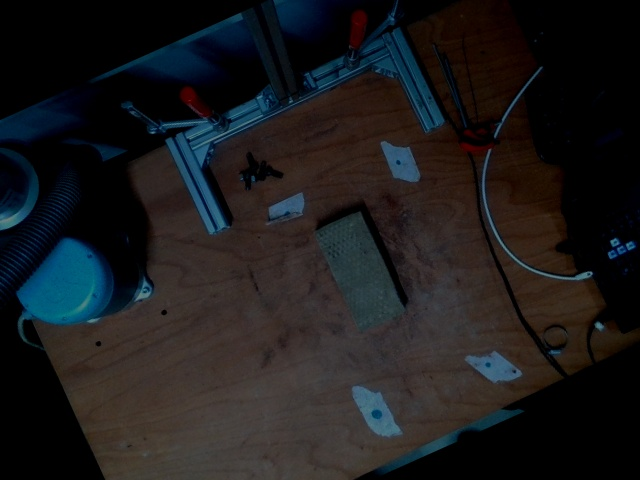brick: (316, 213, 403, 330)
